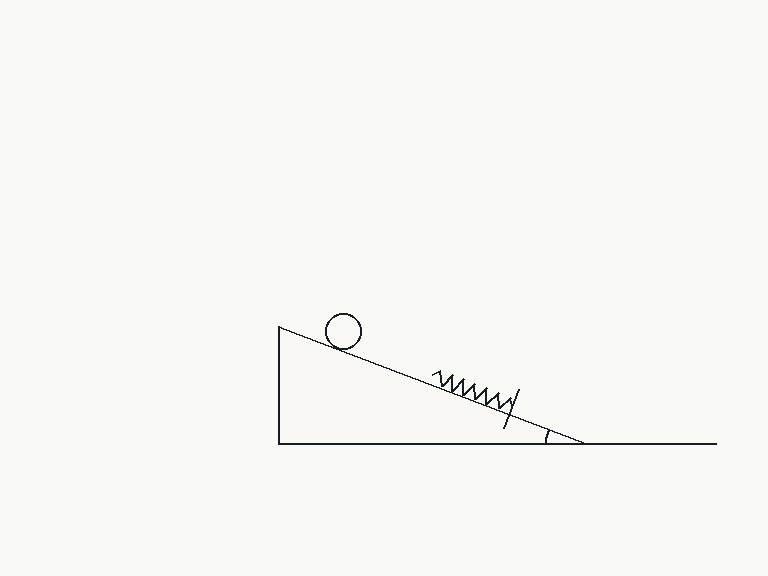ball: (323, 311, 363, 351)
ramp: (276, 324, 588, 446)
spring: (430, 369, 514, 410)
